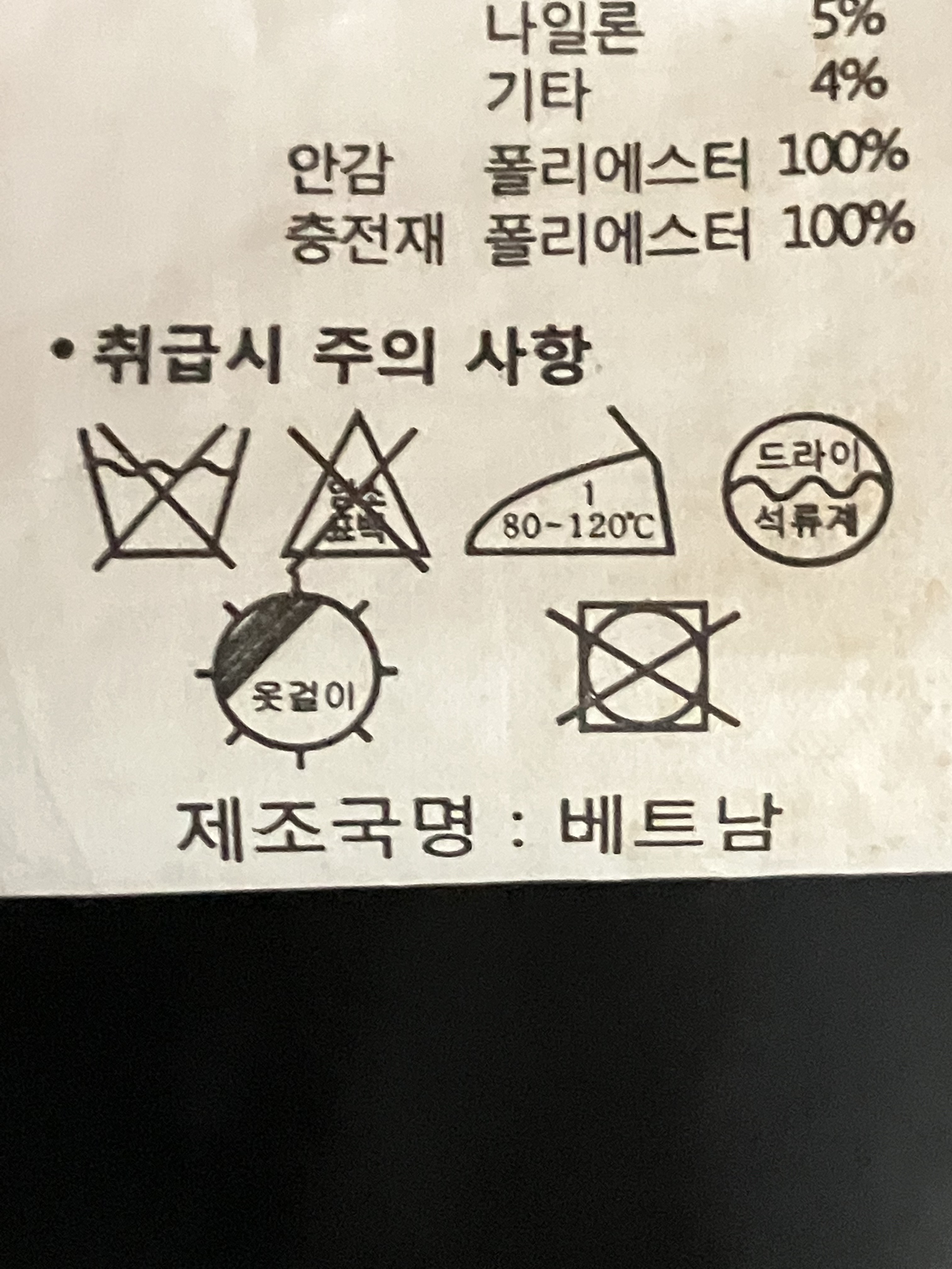KR_dry_clean_petroleum: (715, 395, 904, 580)
KR_hang_dry_in_shade: (190, 576, 402, 760)
KR_iron_low_temp: (456, 392, 694, 578)
KR_no_chlorine_bleach: (269, 403, 441, 573)
KR_no_tumble_dry: (561, 578, 724, 743)
KR_no_wash: (69, 408, 251, 572)
